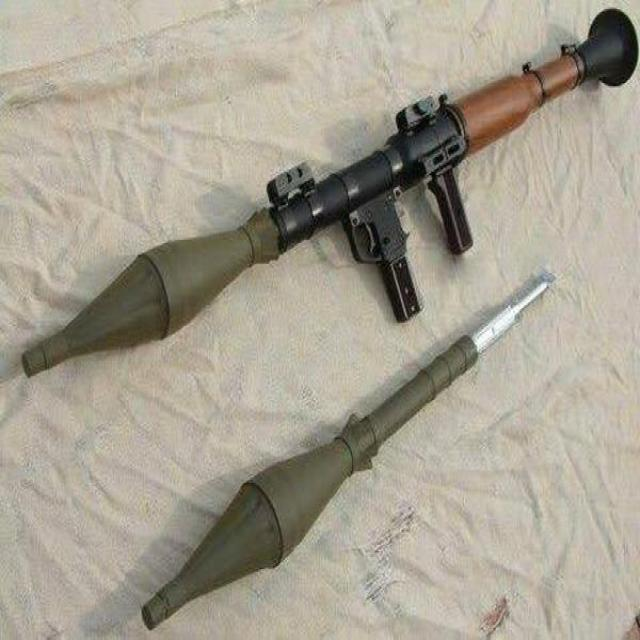bazooka: (10, 2, 639, 431)
